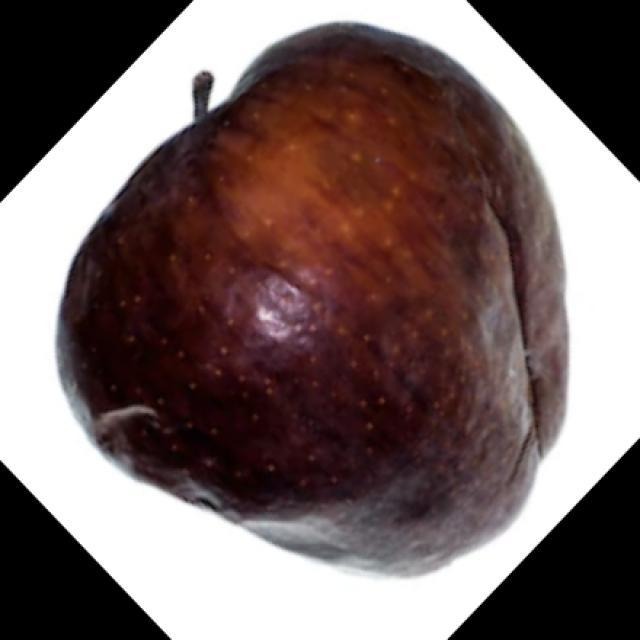Rotten: (67, 15, 590, 550)
